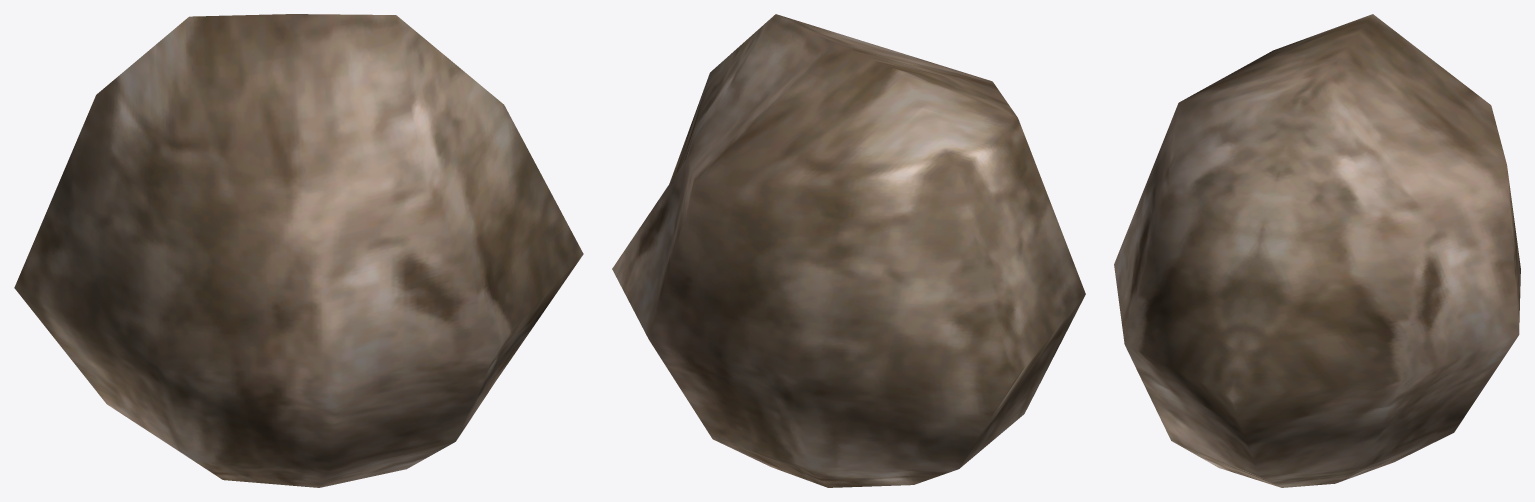
Rendered from OVERHILL_A_01_ROCK78.fbx.
3 views of the same model, side by side, from view 1: azimuth 30°, elevation 25°; view 2: azimuth 150°, elevation 25°; view 3: azimuth 270°, elevation 25° (orthographic). The views are drawn at different scales.
Parts seen in each view (by area): view 1: OVERHILL_A_01_ROCK78; view 2: OVERHILL_A_01_ROCK78; view 3: OVERHILL_A_01_ROCK78.
Boxes of the visible parts, bbox=[...] form: OVERHILL_A_01_ROCK78: bbox=[14, 14, 583, 487]; OVERHILL_A_01_ROCK78: bbox=[612, 14, 1085, 487]; OVERHILL_A_01_ROCK78: bbox=[1114, 14, 1520, 487].
Size of the model in its own units: 13545 by 11903 by 11164.
1 material, 1 textured.
